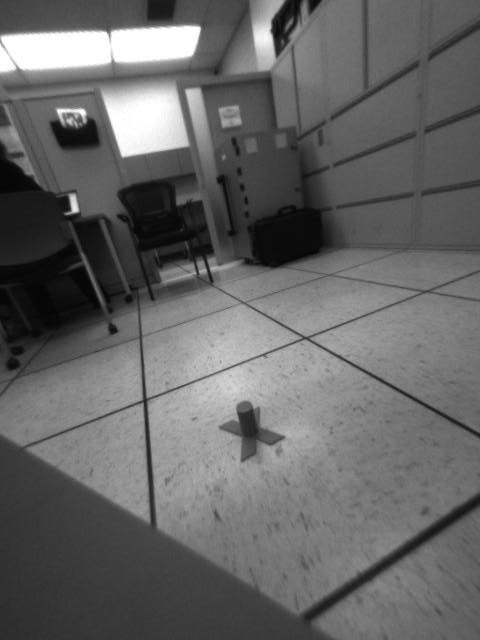X: (218, 399, 286, 463)
